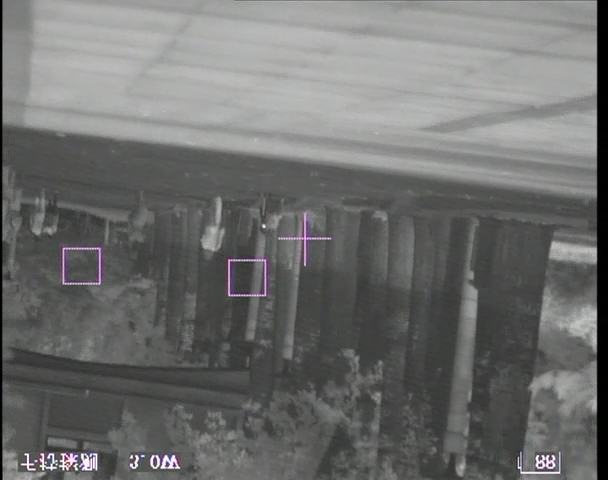my: (261, 223, 267, 230)
